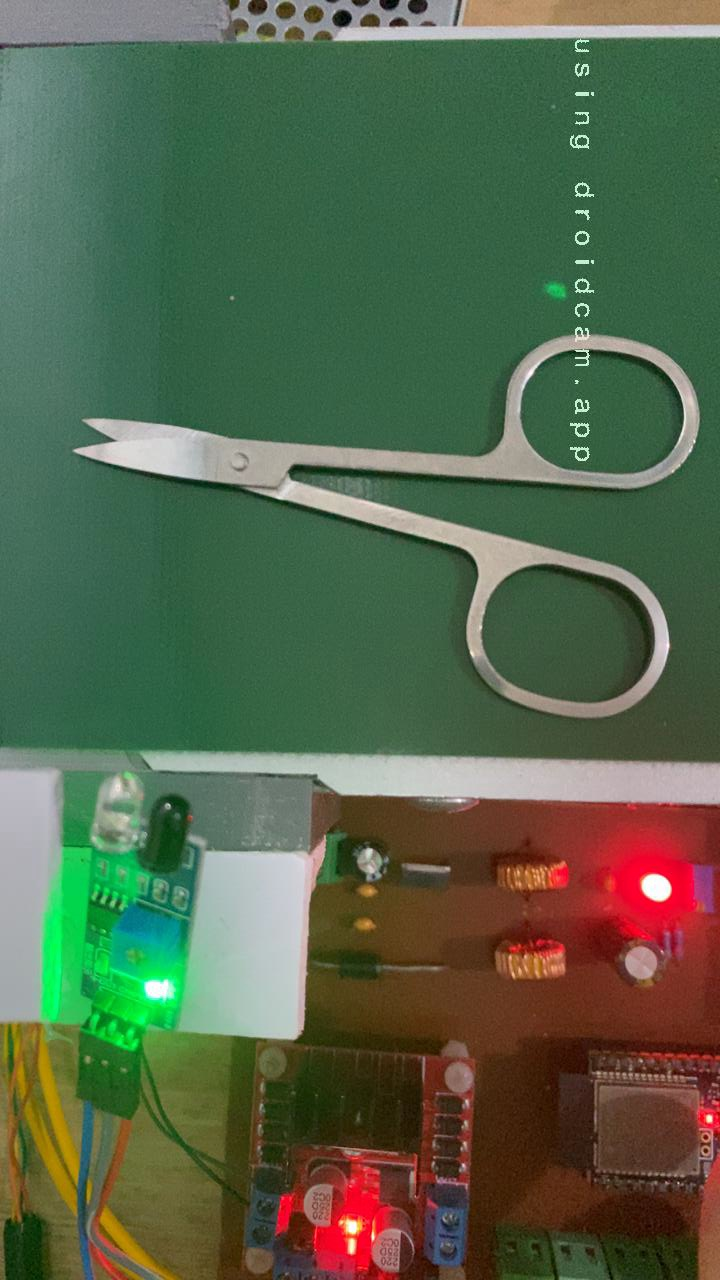scissor: (67, 327, 708, 729)
